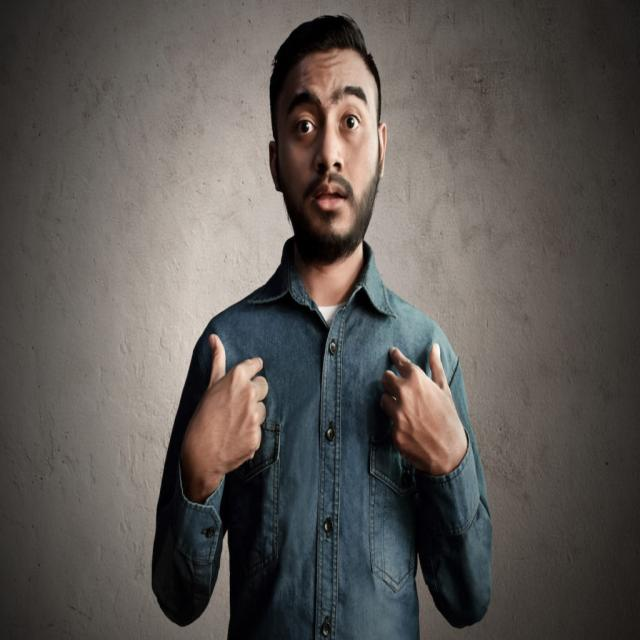human: (155, 29, 504, 640)
